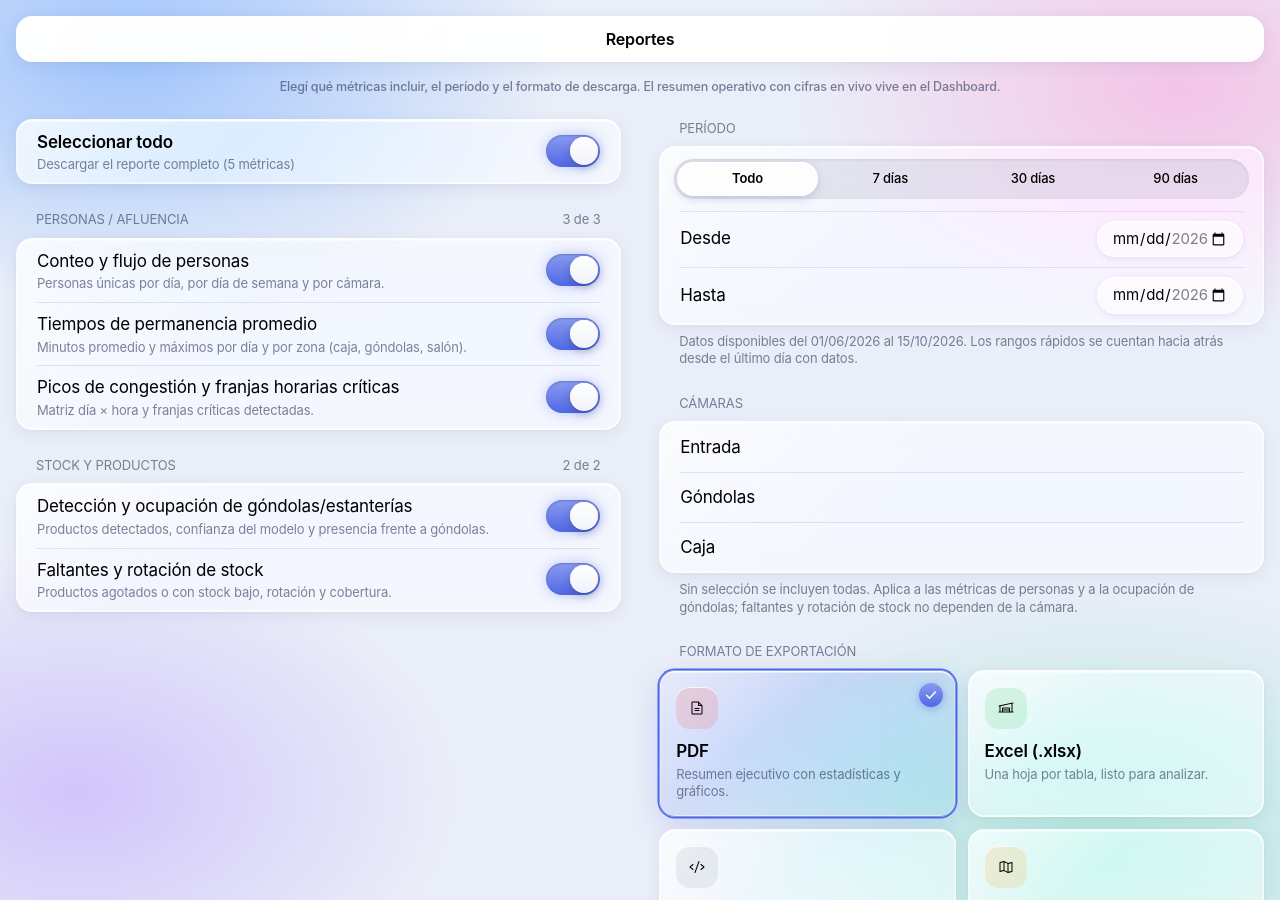
Scenario: selección de métricas › "Seleccionar todo" apaga y prende todas; sin métricas no se puede generar
This screenshot has width=1280, height=900.
Click the switch labelled "Seleccionar todo Descargar el reporte completo (5 métricas)" at (573, 151), box [546,135,600,167]
(page scrolled)
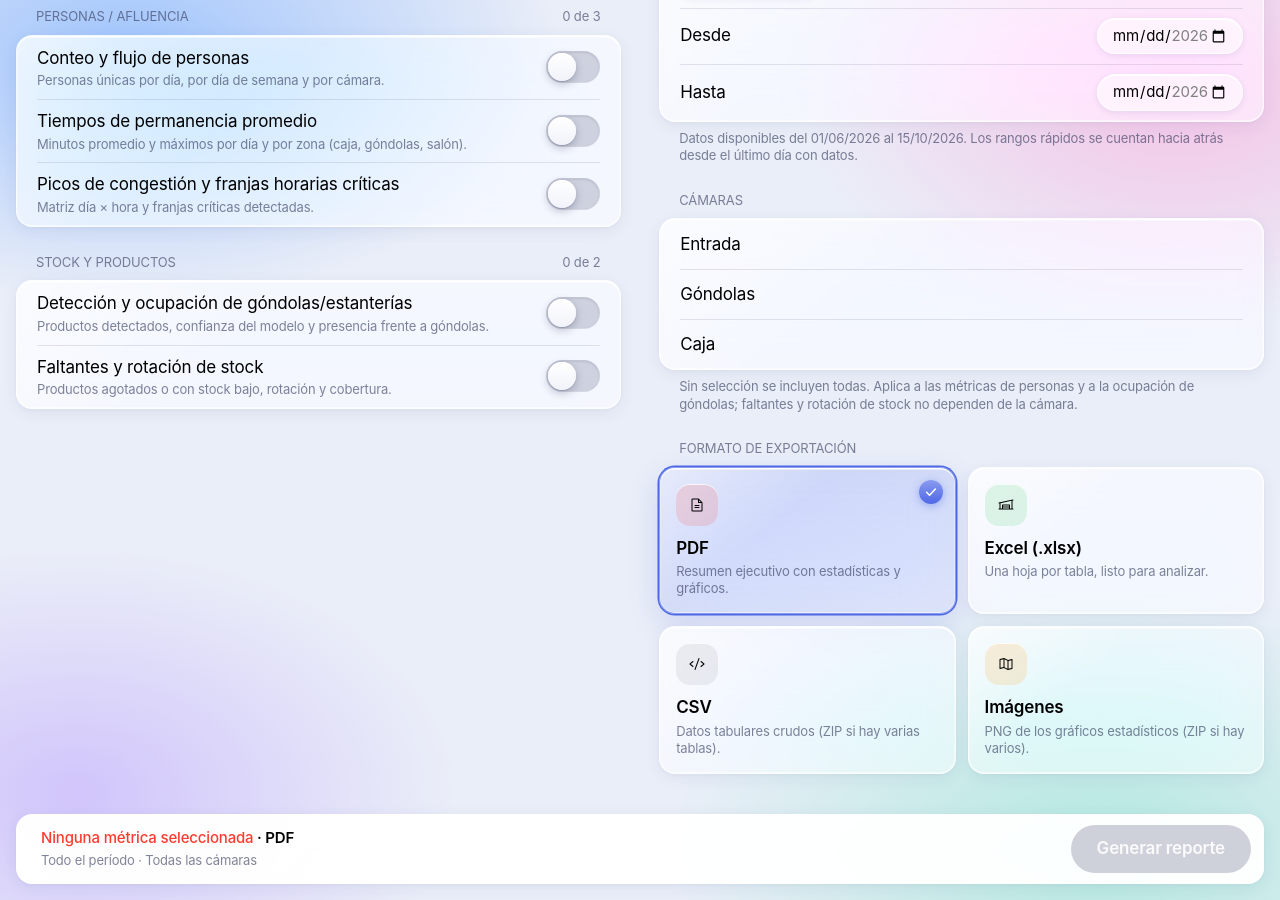
Expected: the 1st switch is not checked, [546,51,600,83]
Expected: the 2nd switch is not checked, [546,115,600,147]
Expected: the 3rd switch is not checked, [546,178,600,210]
Click the button "Generar reporte" at (1161, 848), box [1071,824,1251,872]
(page scrolled)
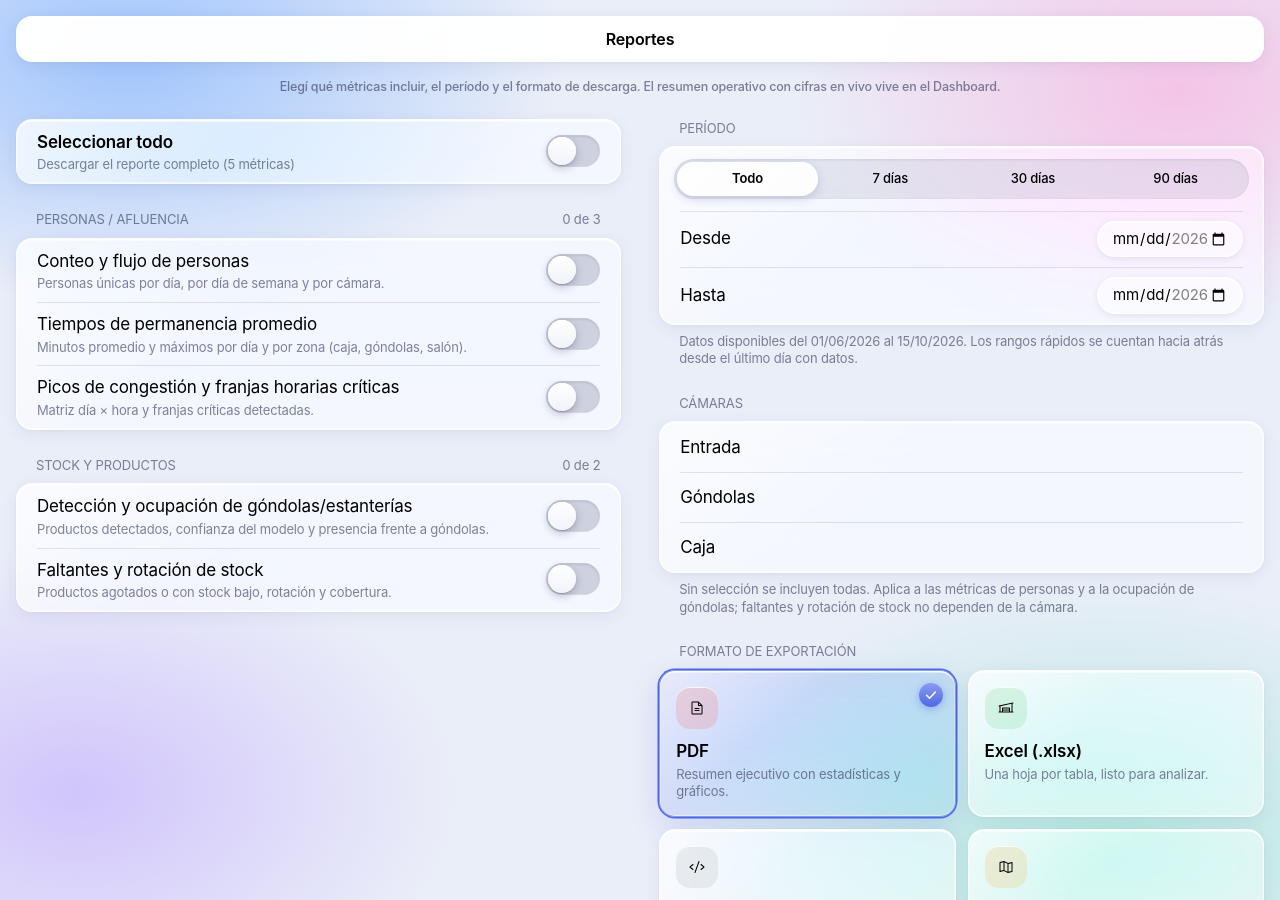
Click the switch labelled "Seleccionar todo Descargar el reporte completo (5 métricas)" at (573, 151), box [546,135,600,167]
(page scrolled)
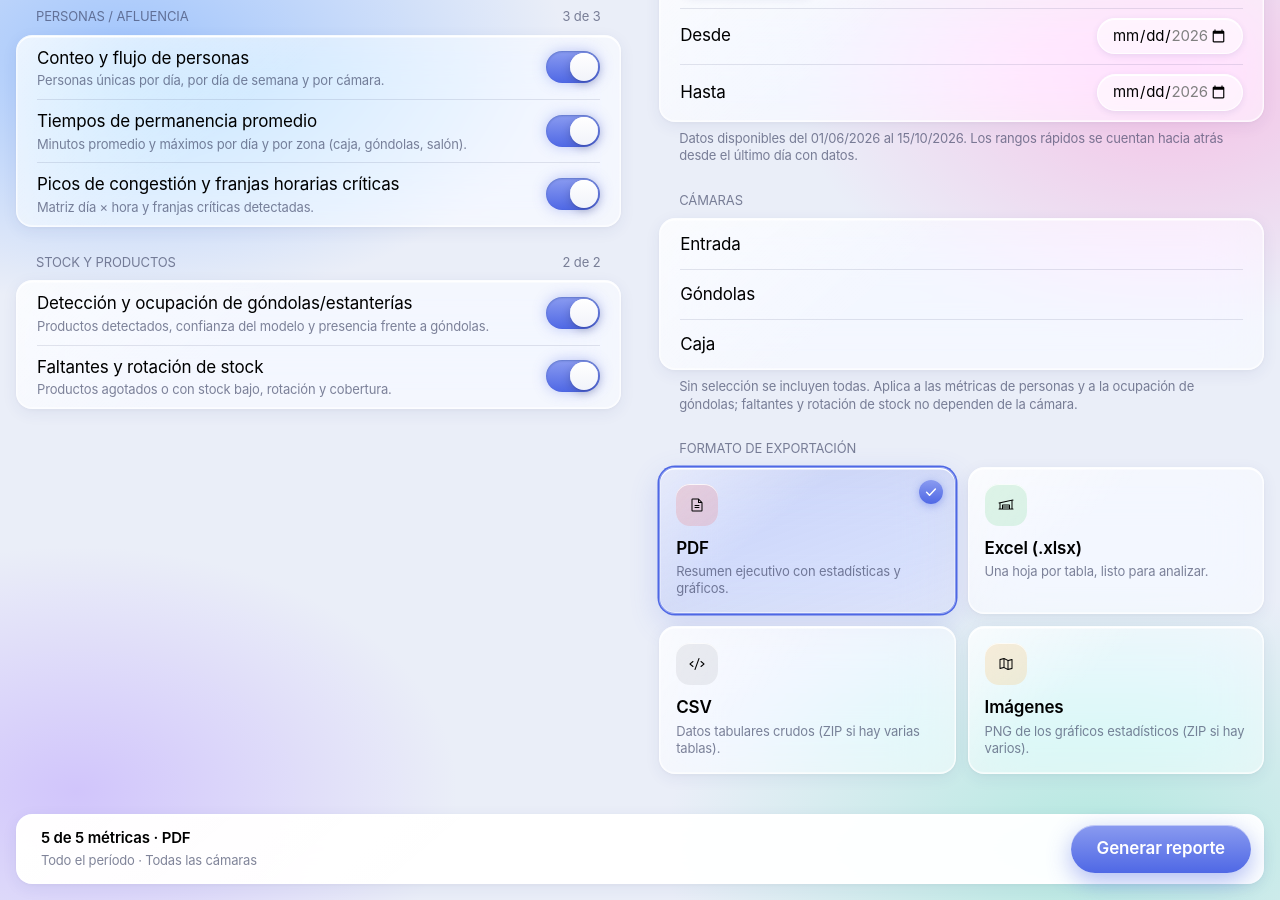
Expected: the 1st switch is checked, [546,51,600,83]
Expected: the 2nd switch is checked, [546,115,600,147]
Expected: the 3rd switch is checked, [546,178,600,210]
